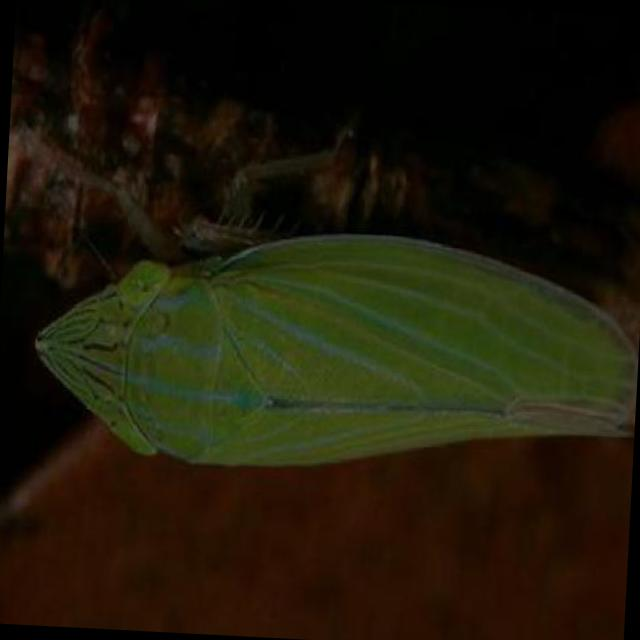green-leafhopper: (32, 212, 634, 489)
